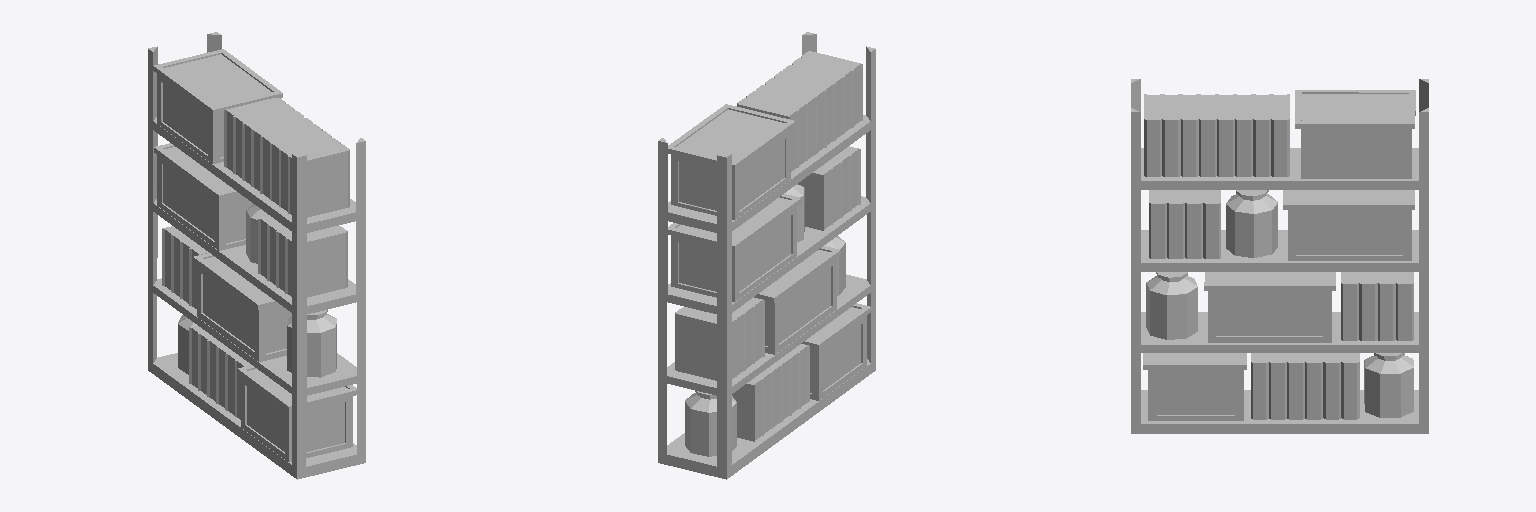
The model's file is shelf2_test.obj.
3 renders of one model, left to right at view 1: azimuth 30°, elevation 25°; view 2: azimuth 150°, elevation 25°; view 3: azimuth 270°, elevation 25°, orthographic.
Visible parts, largest first — view 1: shelflowpoly_comb3_finished; view 2: shelflowpoly_comb3_finished; view 3: shelflowpoly_comb3_finished.
Part boxes in pixels (left/top/right/bottom): shelflowpoly_comb3_finished: left=148, top=32, right=365, bottom=479; shelflowpoly_comb3_finished: left=658, top=32, right=875, bottom=479; shelflowpoly_comb3_finished: left=1131, top=79, right=1428, bottom=433.
Size of the model in its own units: 2.51 by 10.89 by 9.13.